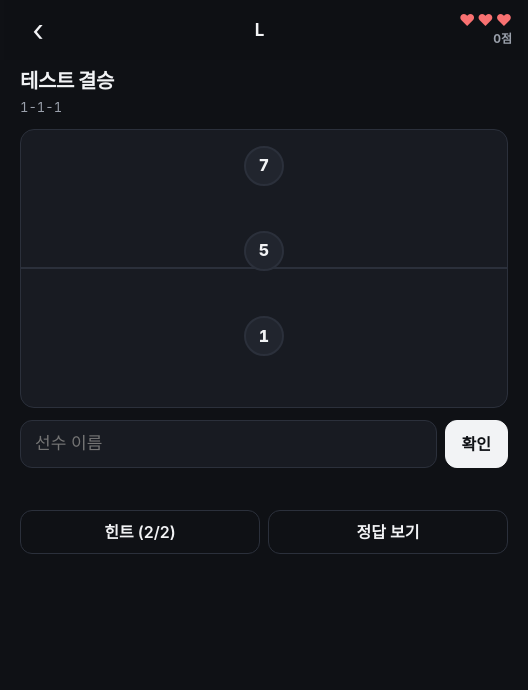
Test: LineupGame › 등번호는 처음부터 전부 노출, 이름 입력하면 해당 칸 채움, 11명(여기선 3) 완성 → 보너스 → 완료
Type "반데사르" into the field at (228, 444), box [20,420,436,468]
Then press Enter
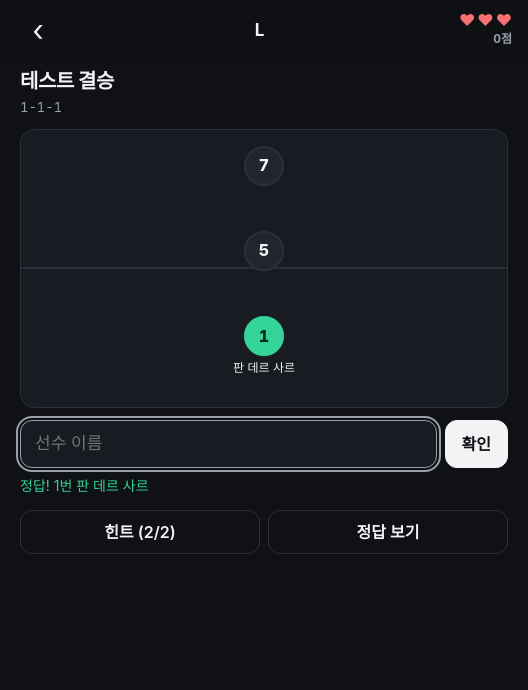
Expected: the number of elements with class "open" is 1, [233,316,295,375]
Now the text "판 데르 사르" is shown, box [233,360,295,375]
Type "리오" into the field at (228, 444), box [20,420,436,468]
Then press Enter
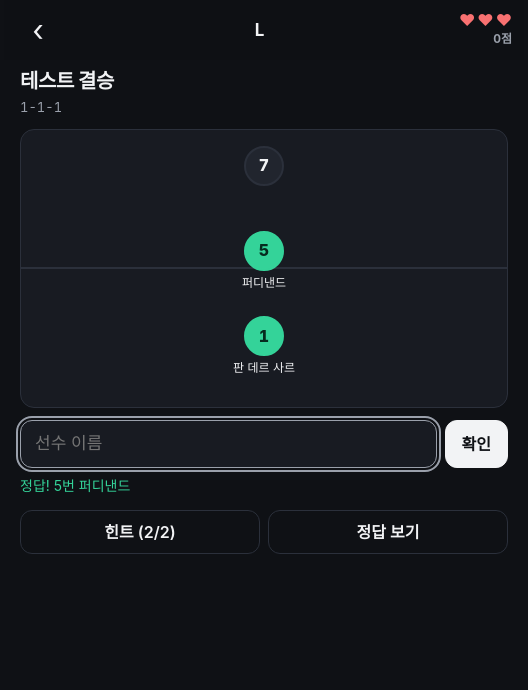
Type "cr7" into the field at (228, 444), box [20,420,436,468]
Then press Enter
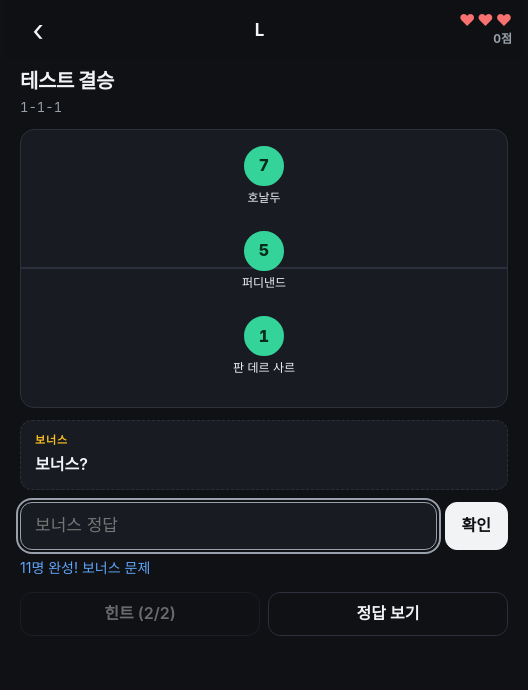
Now the text "보너스?" is shown, box [35,454,88,474]
Now the button "힌트 (2/2)" is disabled, box [20,592,260,636]
Type "bonus" into the field at (228, 526), box [20,502,436,550]
Then press Enter
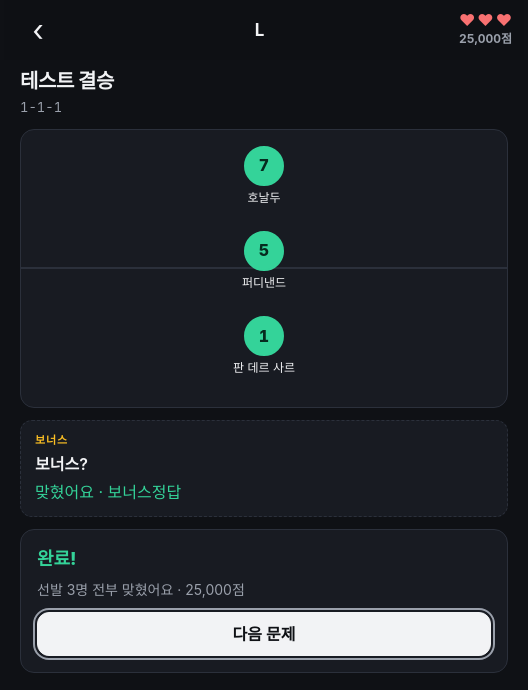
Now the heading "완료!" is shown, box [37,548,77,569]
Now the text "맞혔어요 · 보너스정답" is shown, box [35,482,181,502]
